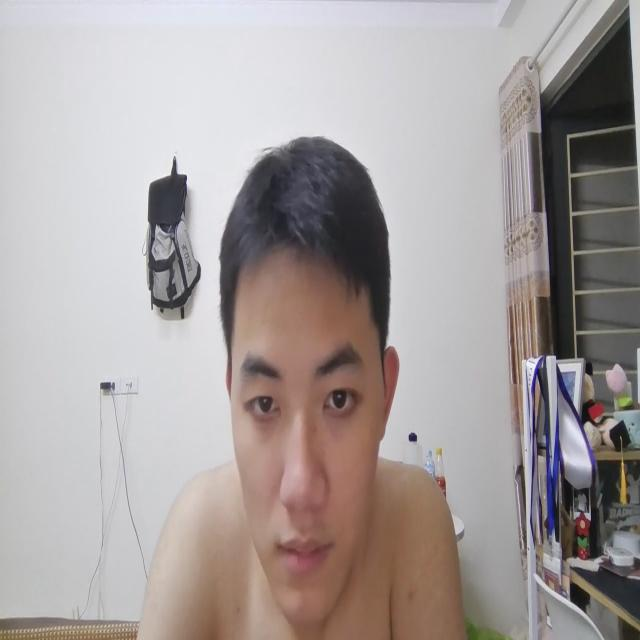student: (134, 129, 460, 640)
